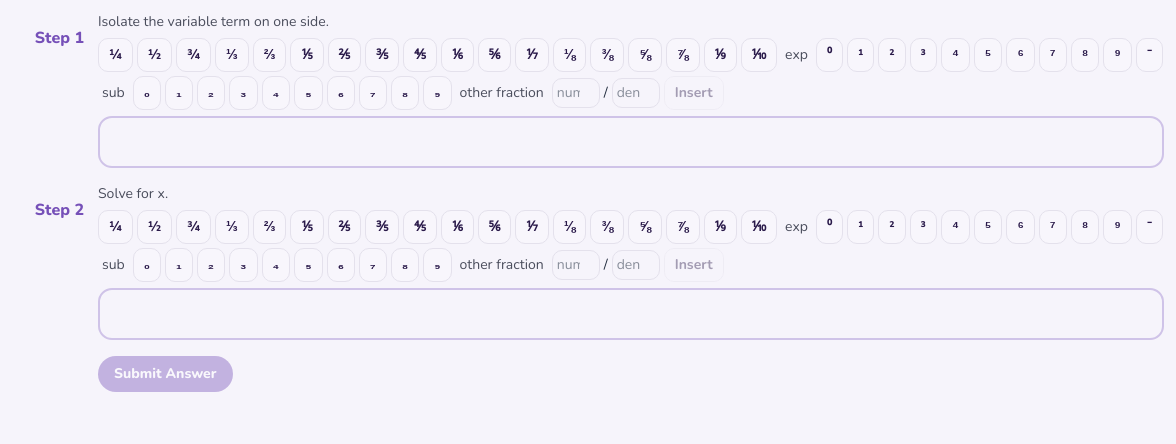
MultiStepAnswerInput › shows a grading-unavailable state when the Grading Agent stays down
Type "3x = 12" into the field with test id "multi-step-input-0" at x=631, y=142, box [98,116,1164,168]
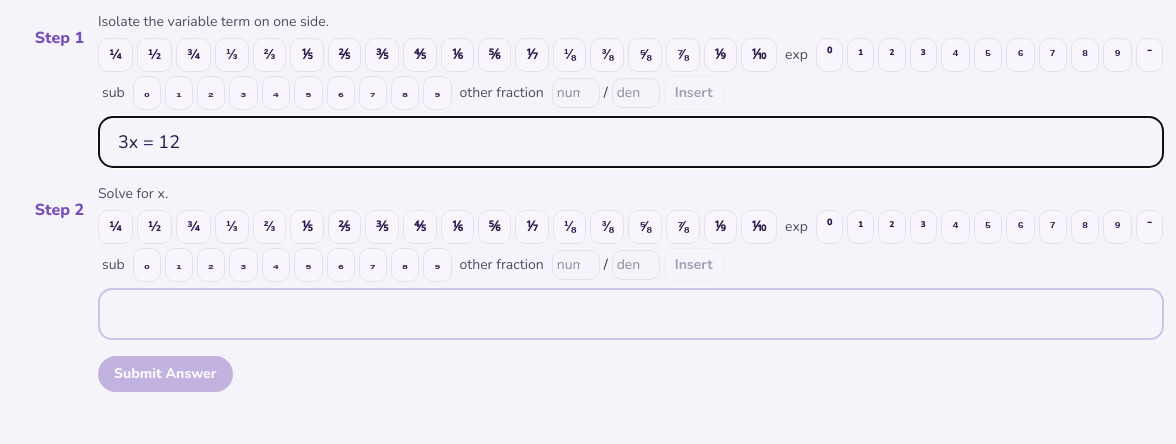
Type "x = 4" into the field with test id "multi-step-input-1" at x=631, y=314, box [98,288,1164,340]
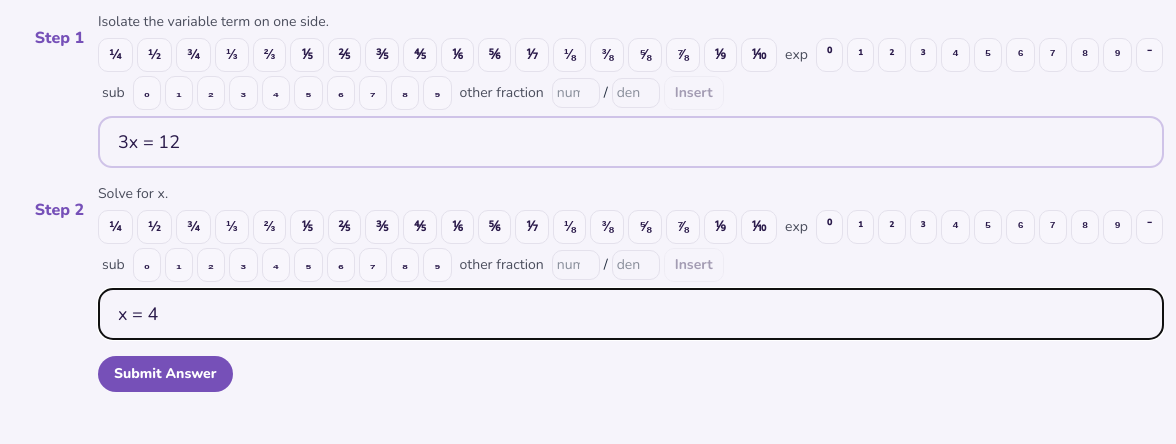
Click the button "Submit Answer" at x=165, y=374, box [98,356,232,392]
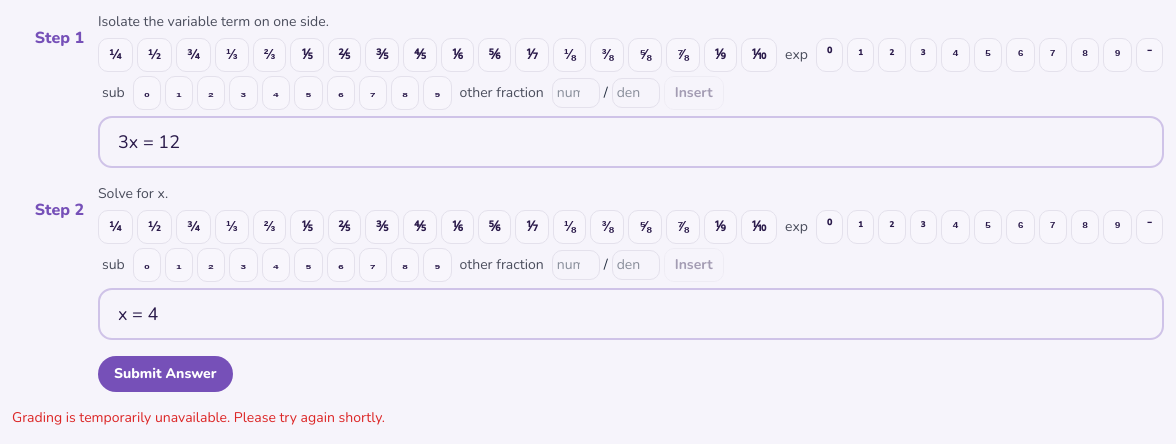
expect the text with test id "multi-step-error-unavailable" is shown: met, box [12,408,385,427]
